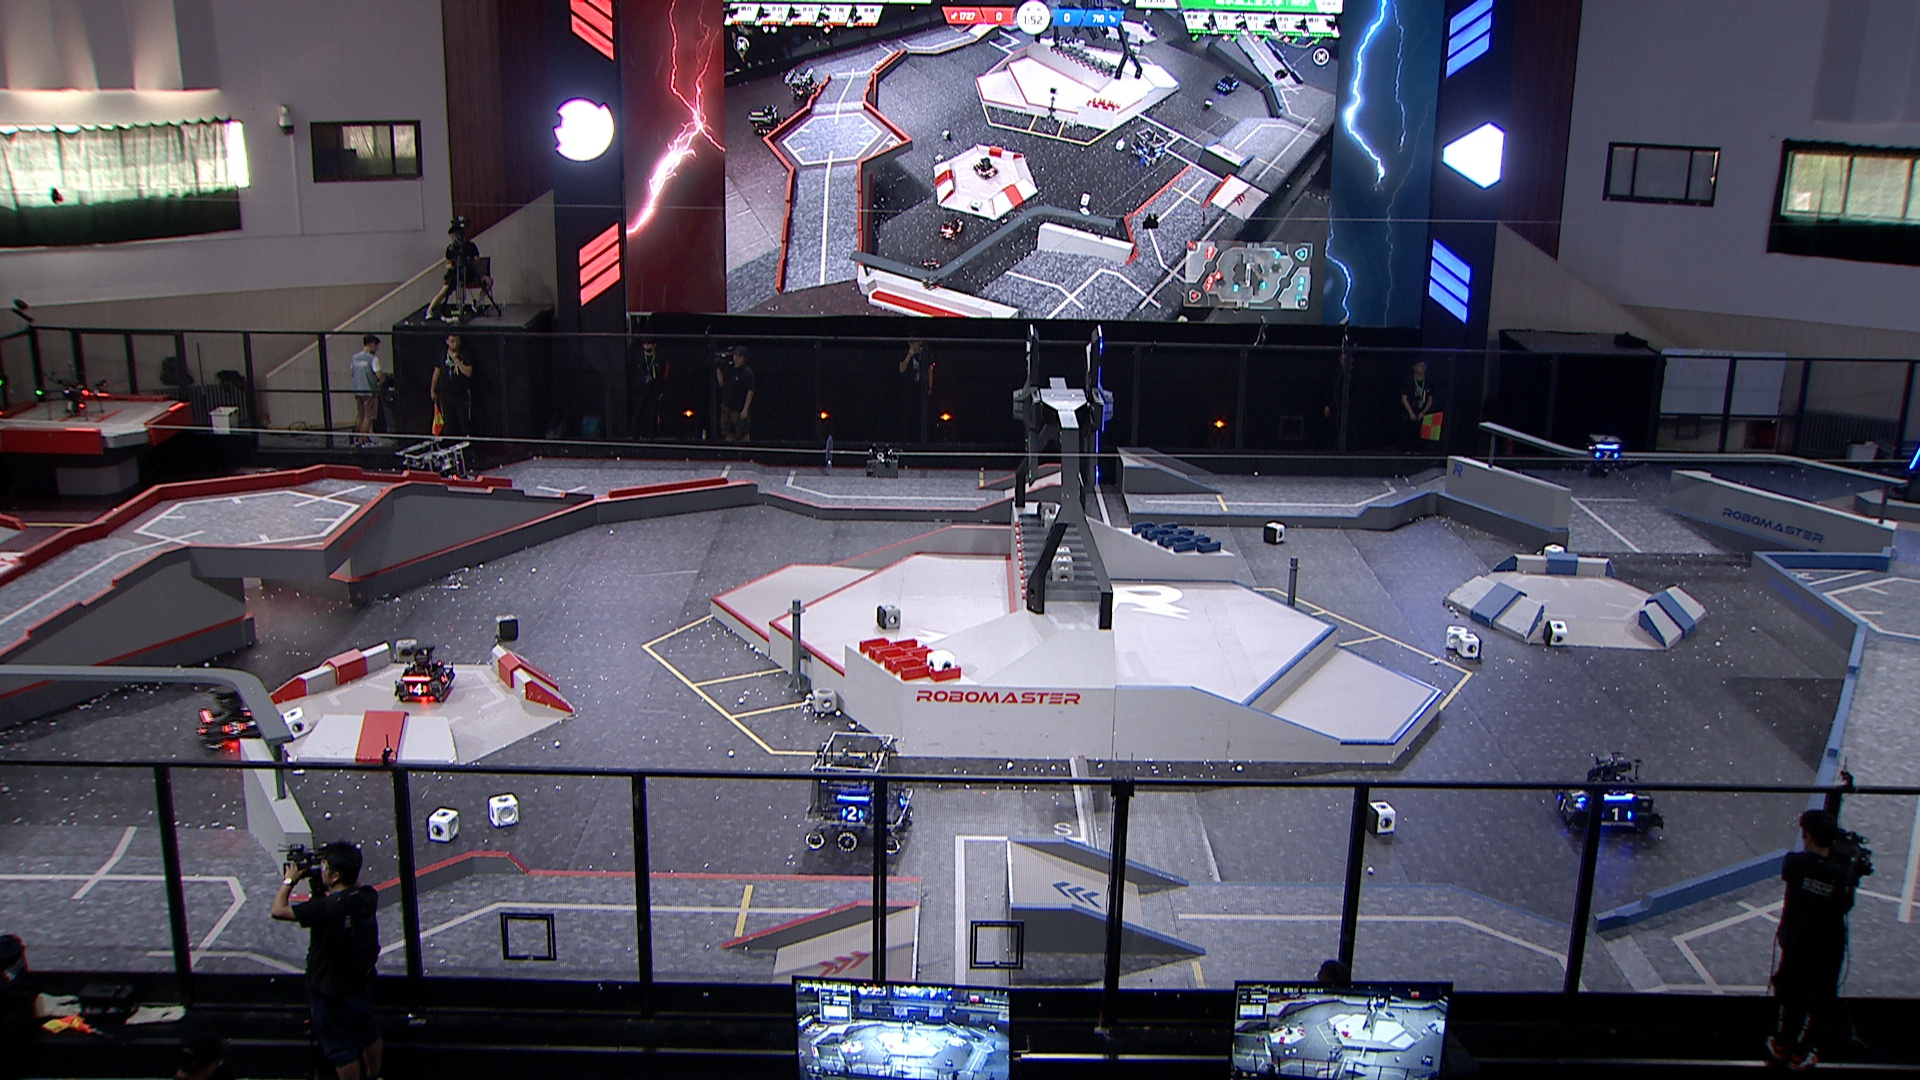armor: (1602, 807, 1634, 823), (1555, 793, 1572, 818), (840, 806, 864, 822), (1569, 789, 1589, 807), (224, 721, 247, 737), (1596, 450, 1621, 462), (407, 684, 433, 695), (1908, 450, 1920, 471), (898, 790, 910, 808), (438, 669, 451, 683)
base: (1888, 422, 1920, 508)
car: (806, 731, 916, 855), (1553, 752, 1667, 843), (196, 680, 276, 754), (394, 436, 475, 505), (394, 642, 451, 705)
ignore: (785, 69, 820, 104), (746, 104, 785, 136), (1135, 129, 1164, 164), (922, 257, 942, 294), (1215, 73, 1242, 94), (940, 216, 964, 239), (972, 157, 997, 178)
watcher: (1582, 434, 1625, 477)
